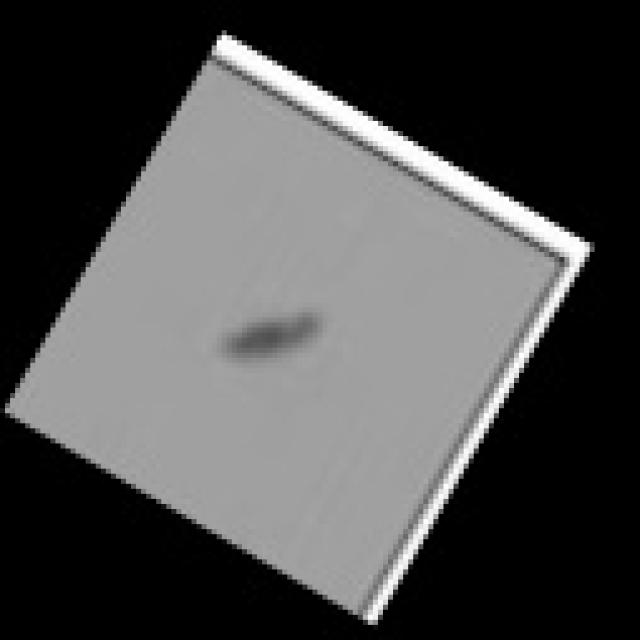Defect5: (211, 293, 330, 378)
